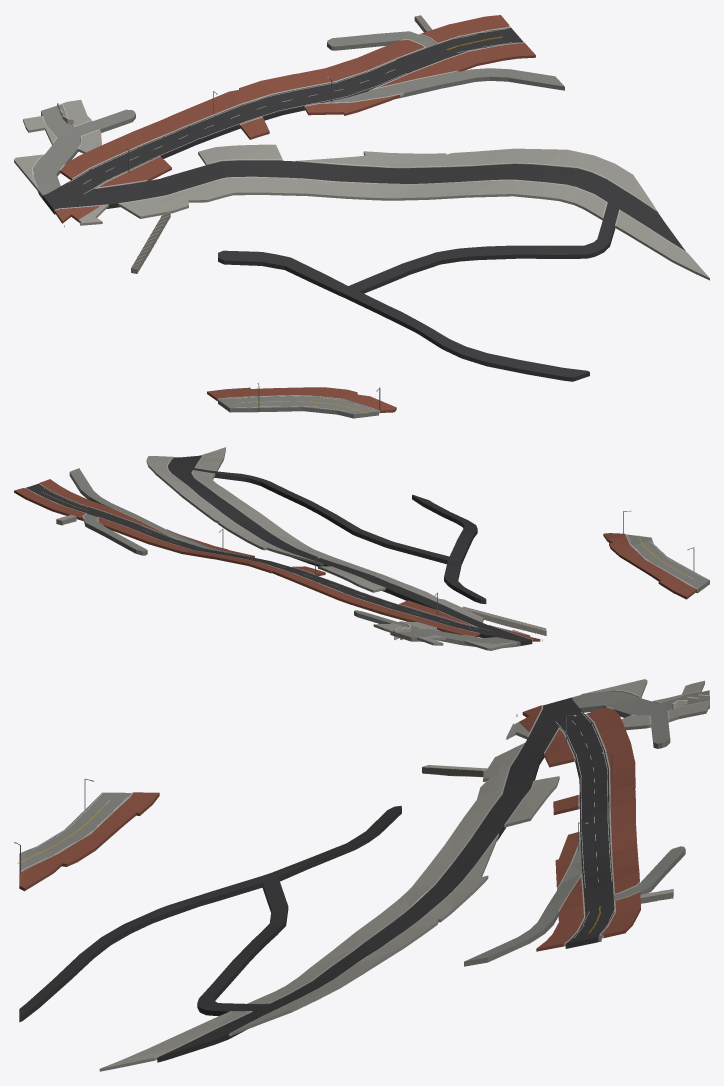
File: 18-218892-118961.fdd84d96.glb
3 renders of one model, top to bottom at view 1: azimuth 30°, elevation 25°; view 2: azimuth 150°, elevation 25°; view 3: azimuth 270°, elevation 25°, orthographic. The views are drawn at different scales.
Size of the model in its own units: 147 by 43.74 by 147.
